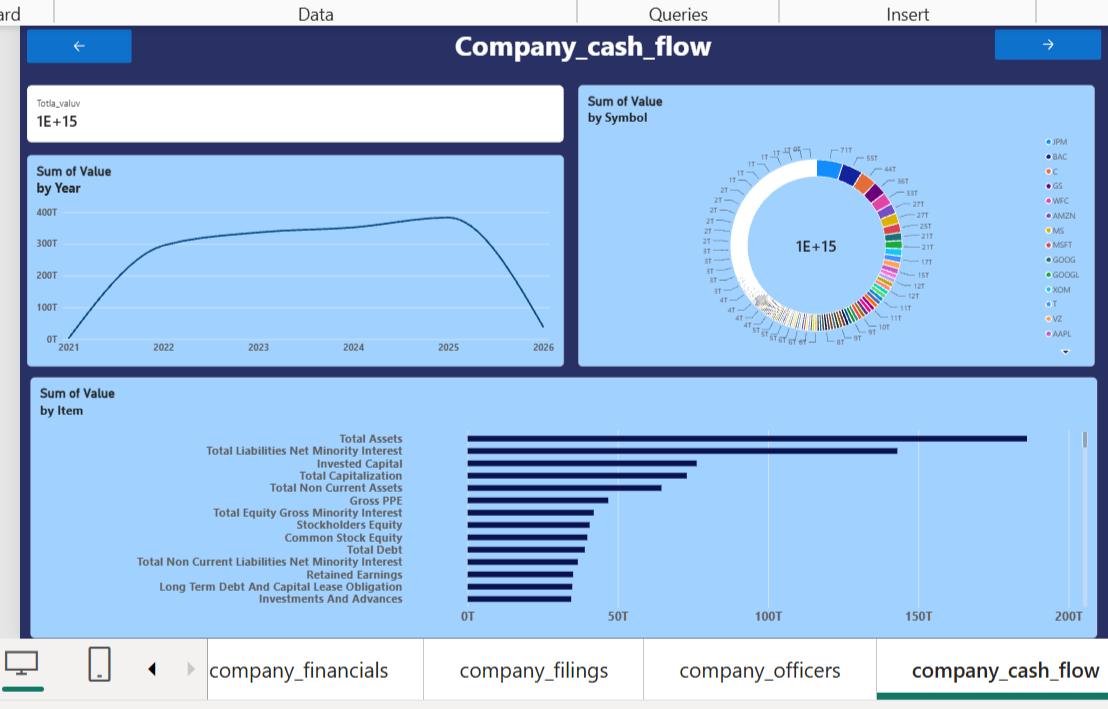

The dashboard page shown, as its layout file describes it:
{"tool":"powerbi","page":{"name":"company_cash_flow","canvas":[1920,1080],"ordinal":7},"visuals":[{"type":"barChart","fields":{"Category":["07_company_cash_flow.Item"],"Y":["Sum(07_company_cash_flow.Value)"]},"box":[20,621.2,1880.2,459.7],"z":0},{"type":"lineChart","fields":{"Category":["07_company_cash_flow.Period.Variation.Date Hierarchy.Year","07_company_cash_flow.Period.Variation.Date Hierarchy.Quarter","07_company_cash_flow.Period.Variation.Date Hierarchy.Month","07_company_cash_flow.Period.Variation.Date Hierarchy.Day"],"Y":["Sum(07_company_cash_flow.Value)"]},"box":[12.7,228,946.5,372.8],"z":1000},{"type":"donutChart","fields":{"Category":["07_company_cash_flow.Symbol"],"Y":["Sum(07_company_cash_flow.Value)"]},"box":[982.6,105,910.3,495.8],"z":2000},{"type":"cardVisual","fields":{"Data":["07_company_cash_flow.Totla_valuv"]},"box":[12.7,105,946.5,101.3],"z":3000},{"type":"textbox","box":[264.2,0,1455,88.7],"z":4000},{"type":"actionButton","box":[12.7,5.4,184.6,59.7],"z":5000},{"type":"actionButton","box":[1719.2,5.4,188.2,54.3],"z":6000}]}

Visuals, with their boxes in screenshot pixels (x1, y1, x2, y2):
barChart - 07_company_cash_flow.Item x Sum(07_company_cash_flow.Value): x1=23 y1=377 x2=1093 y2=638
lineChart - 07_company_cash_flow.Period.Variation.Date Hierarchy.Year x 07_company_cash_flow.Period.Variation.Date Hierarchy.Quarter: x1=19 y1=153 x2=557 y2=365
donutChart - 07_company_cash_flow.Symbol x Sum(07_company_cash_flow.Value): x1=571 y1=83 x2=1089 y2=365
cardVisual - 07_company_cash_flow.Totla_valuv: x1=19 y1=83 x2=557 y2=140
textbox: x1=162 y1=23 x2=990 y2=74
actionButton: x1=19 y1=26 x2=124 y2=60
actionButton: x1=990 y1=26 x2=1097 y2=57
